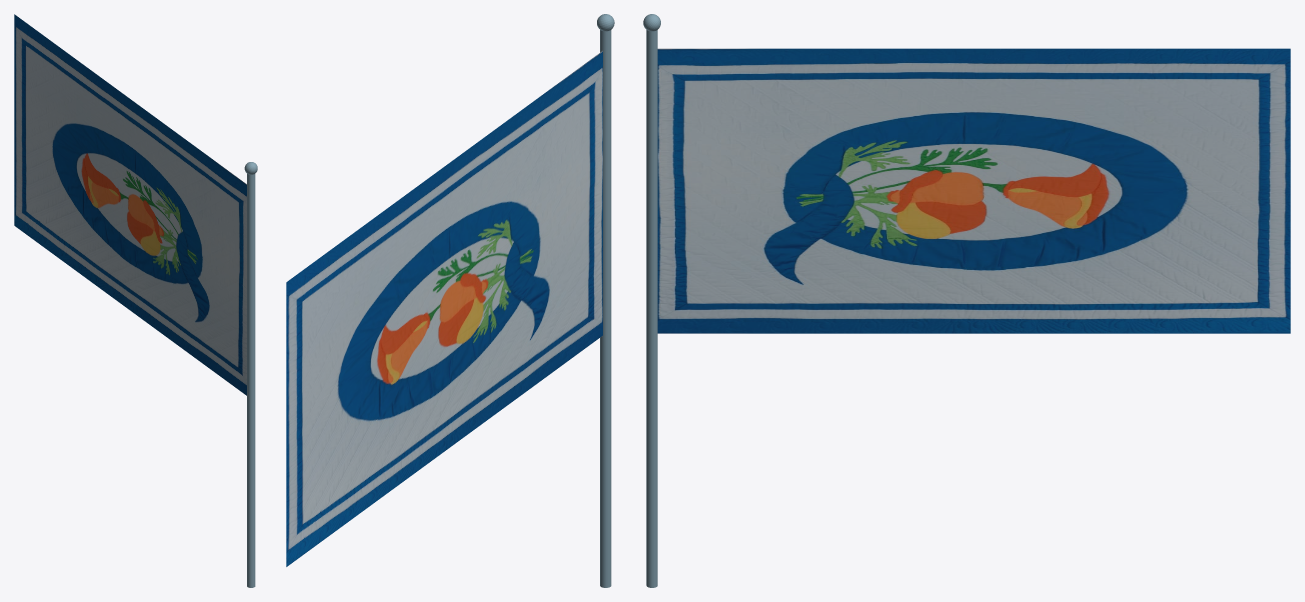
The model's file is flag_quilt_02.glb.
The picture shows the model from 3 angles, left to right: view 1: azimuth 30°, elevation 25°; view 2: azimuth 150°, elevation 25°; view 3: azimuth 270°, elevation 25°; orthographic projection. The views are drawn at different scales.
Visible parts, largest first — view 1: Plane, Cylinder; view 2: Plane, Cylinder; view 3: Plane, Cylinder.
Part boxes in pixels (x1,y1,x2,y2): Plane: [14, 14, 246, 395]; Cylinder: [244, 162, 257, 587]; Plane: [286, 51, 602, 566]; Cylinder: [597, 14, 614, 587]; Plane: [657, 48, 1290, 333]; Cylinder: [643, 14, 660, 587].
Bounding box in the file's own units: 0.1129 × 4.01 × 4.12.
Materials: 2 (1 with a texture image).
